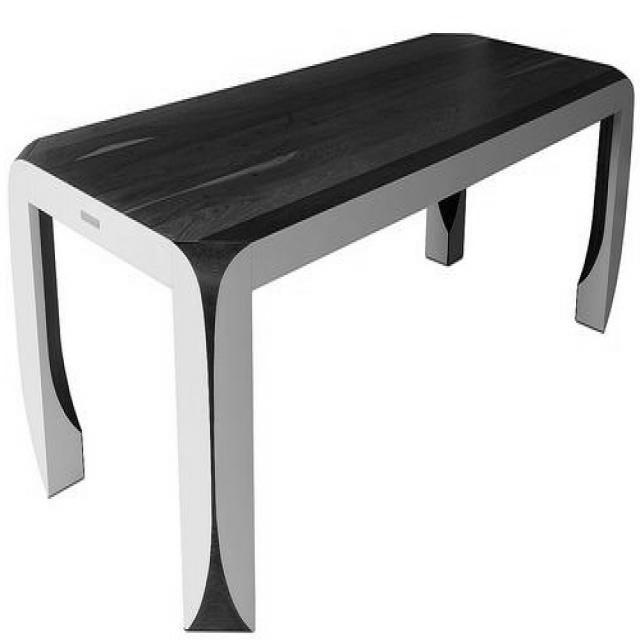table: (9, 31, 636, 628)
